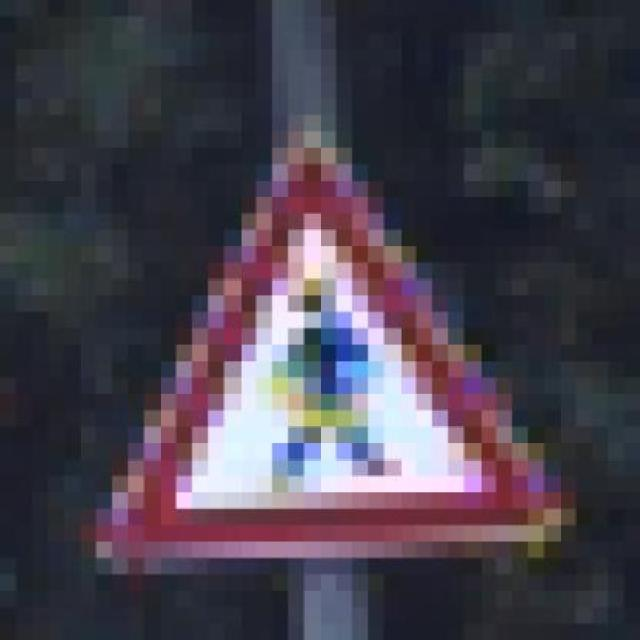Pedestrian Crossing: (79, 132, 576, 574)
